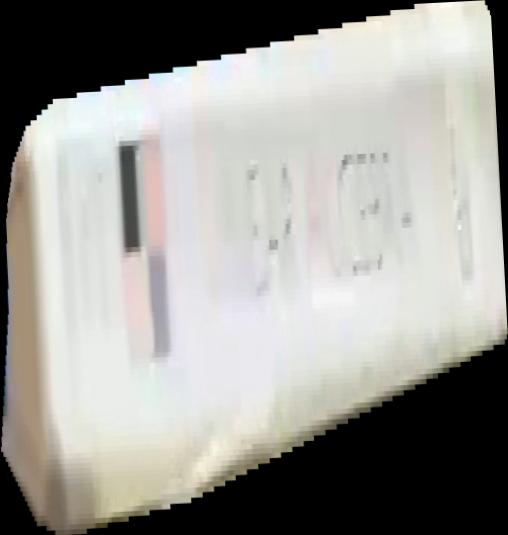flat: (1, 1, 508, 535)
